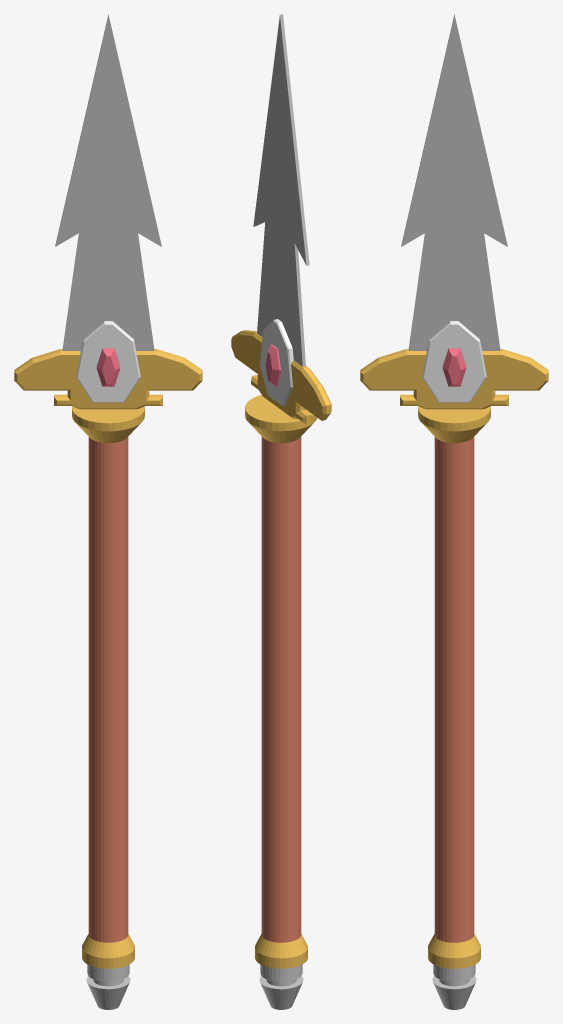
Rendered from IronSpear.fbx.
The picture shows the model from 3 angles, left to right: view 1: azimuth 90°, elevation 25°; view 2: azimuth 210°, elevation 25°; view 3: azimuth 270°, elevation 25°; orthographic projection.
Visible parts, largest first — view 1: Spear6; view 2: Spear6; view 3: Spear6.
Boxes of the visible parts, x1,y1,x2,y2 form: Spear6: (14, 14, 202, 1009); Spear6: (231, 14, 331, 1009); Spear6: (360, 14, 548, 1009).
Bounding box in the file's own units: 40.12 × 601 × 104.
